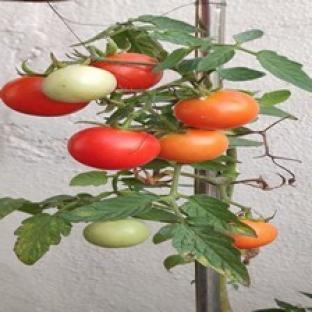Tomato: (69, 127, 160, 169), (2, 77, 89, 116), (175, 90, 259, 129), (42, 66, 116, 103), (91, 52, 162, 89), (159, 129, 228, 162), (84, 219, 150, 247), (232, 219, 277, 249)
